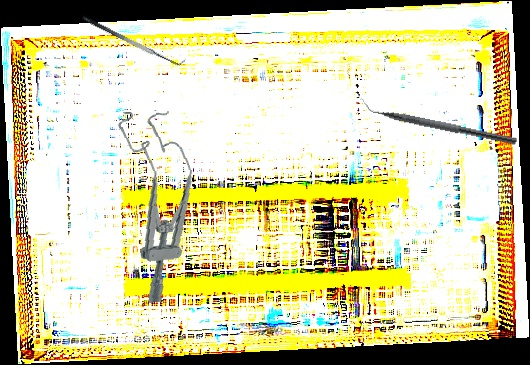Chopper: (356, 96, 520, 146)
Spatula Surgical: (80, 6, 187, 73)
Speculum: (117, 106, 203, 305)
